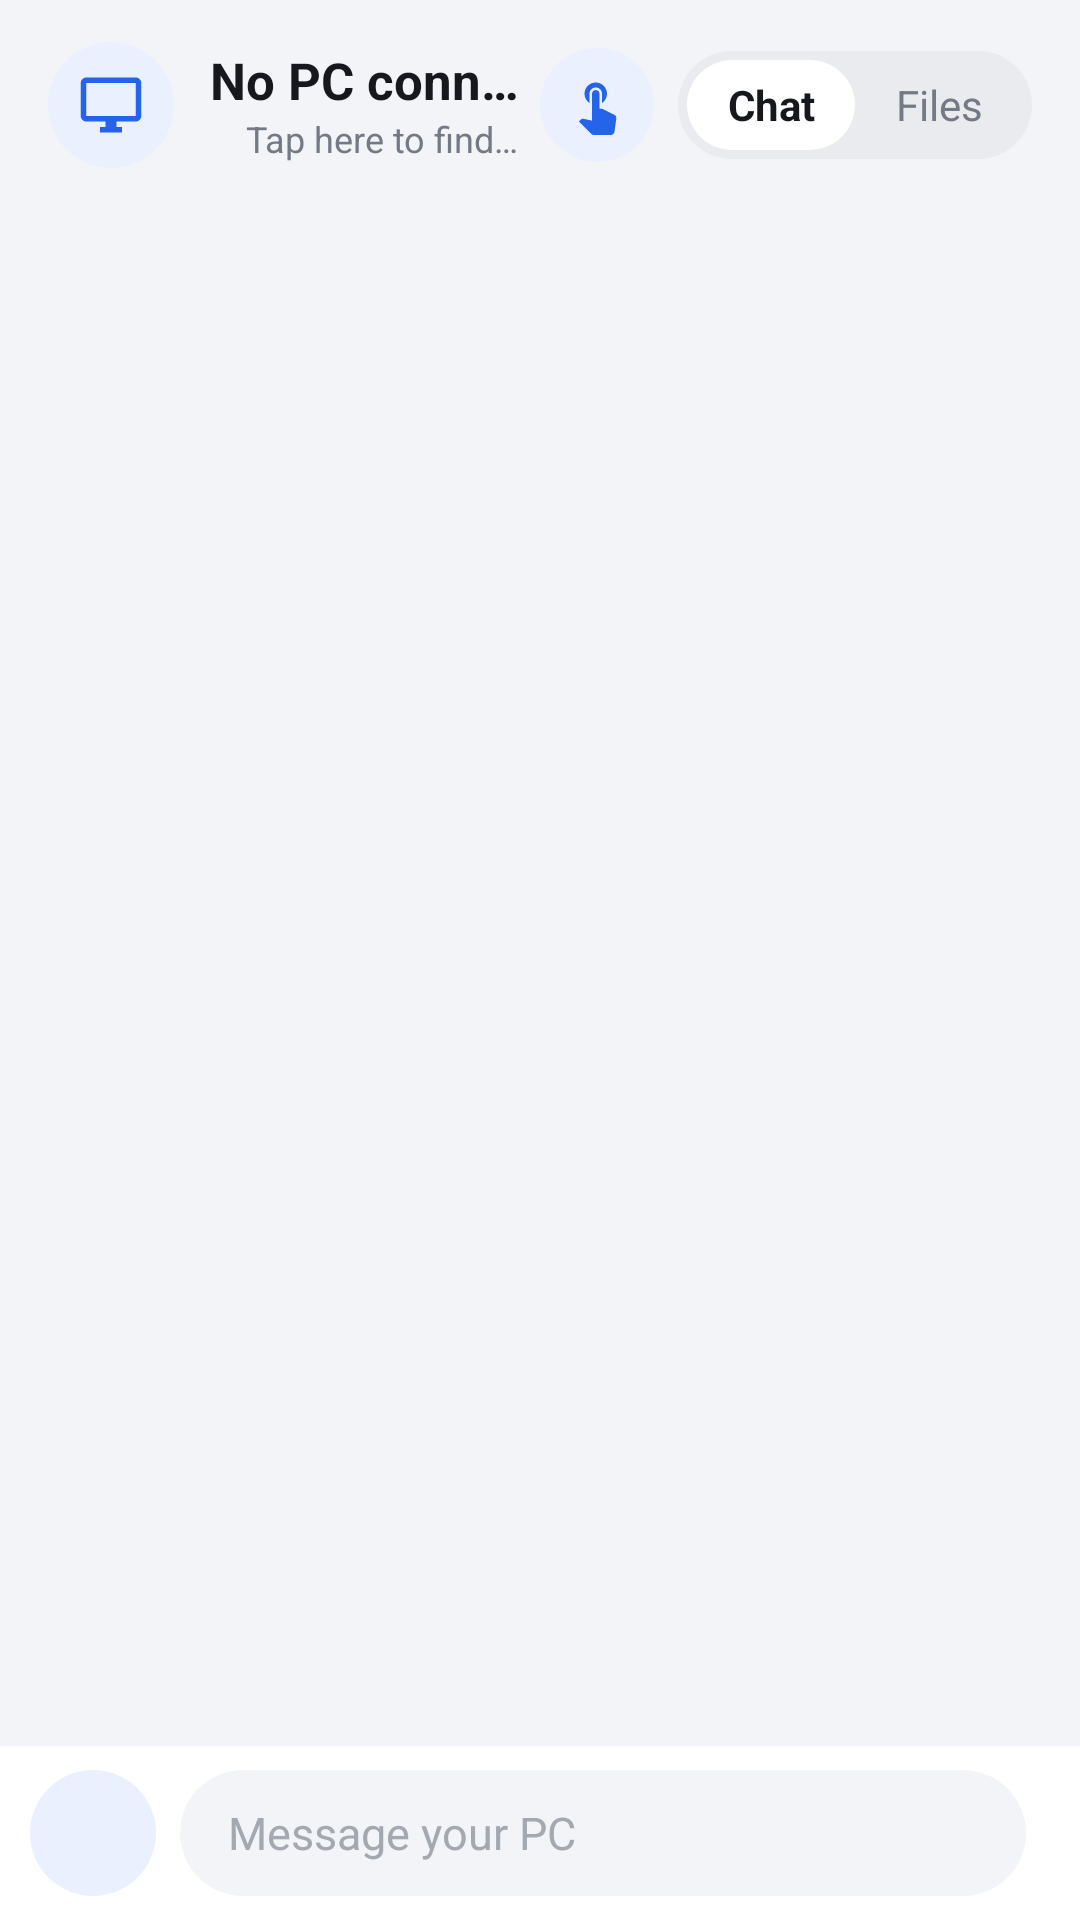

Icon click points for this 1080px×1920px phone screenshot, format (x,y):
computer: (111,105)
